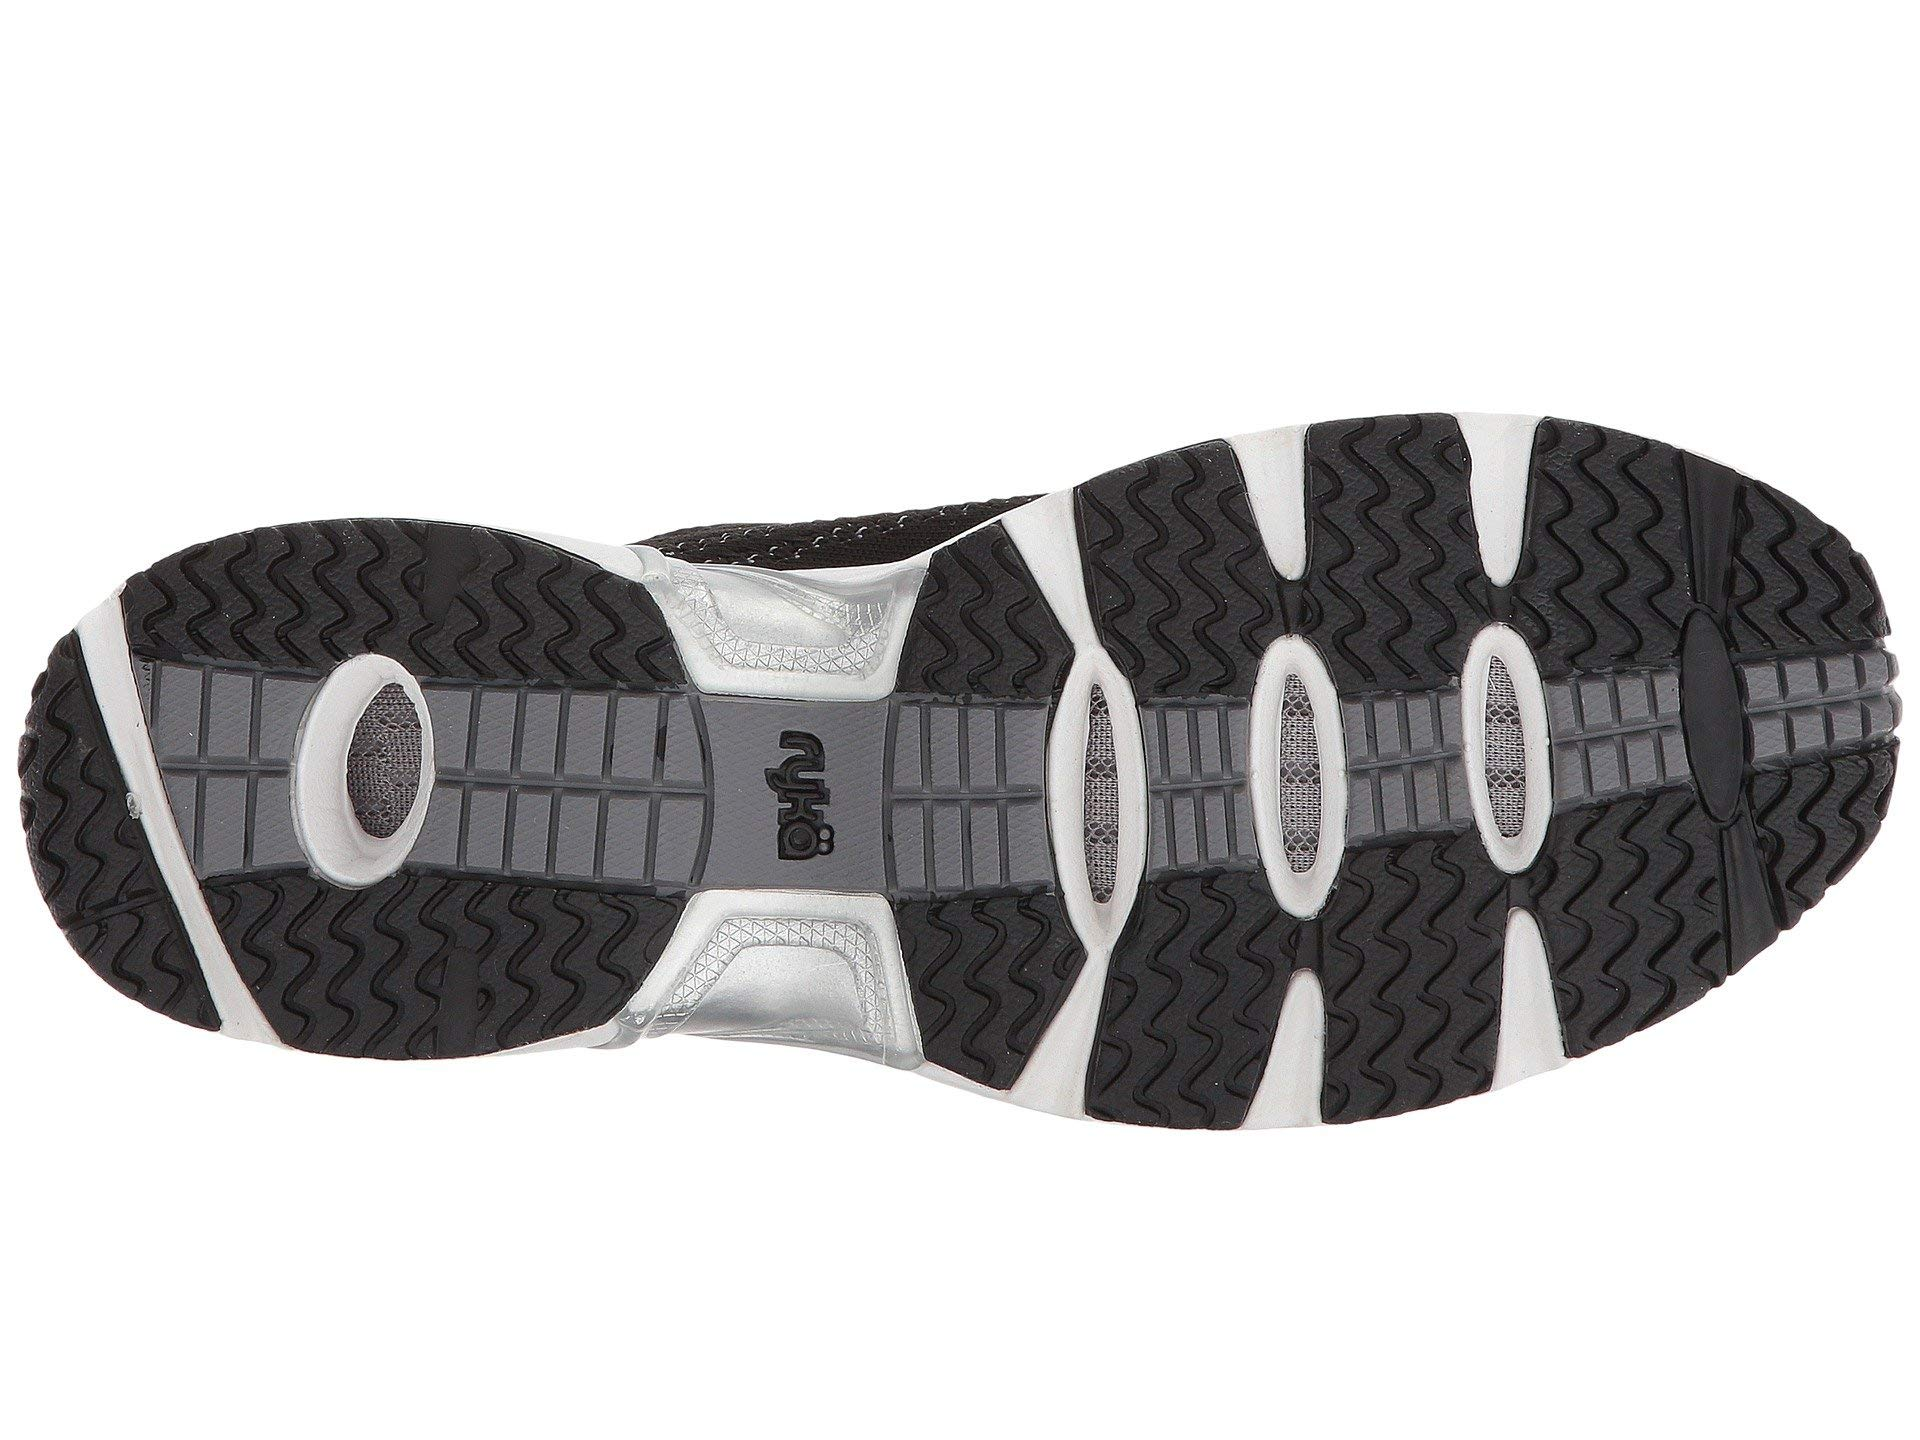chevron: (1184, 499, 1663, 918), (257, 578, 599, 961)
circle: (1184, 499, 1663, 918), (257, 578, 599, 961)
quad: (1184, 499, 1663, 918), (257, 578, 599, 961)
